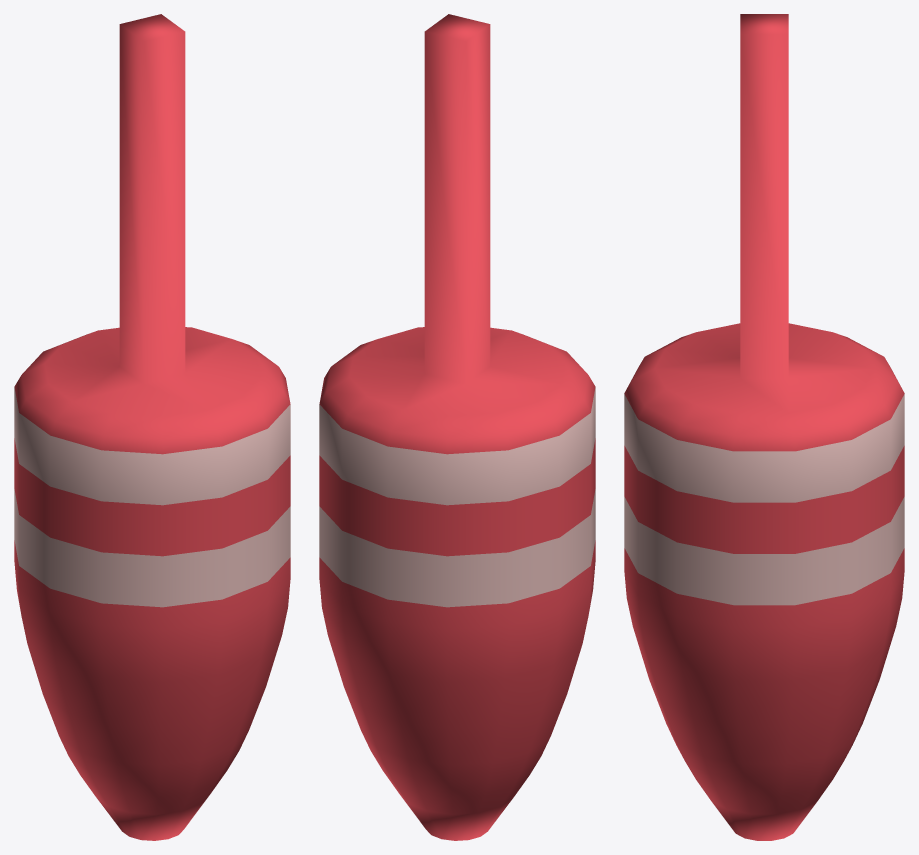
File: buoy.glb
The picture shows the model from 3 angles, left to right: view 1: azimuth 30°, elevation 25°; view 2: azimuth 150°, elevation 25°; view 3: azimuth 270°, elevation 25°; orthographic projection.
Parts seen in each view (by area): view 1: buoy; view 2: buoy; view 3: buoy.
Part boxes in pixels (bbox=[...]): buoy: bbox=[14, 14, 290, 840]; buoy: bbox=[319, 14, 595, 840]; buoy: bbox=[624, 14, 904, 840].
Bounding box in the file's own units: 0.2687 × 0.8731 × 0.2756.
